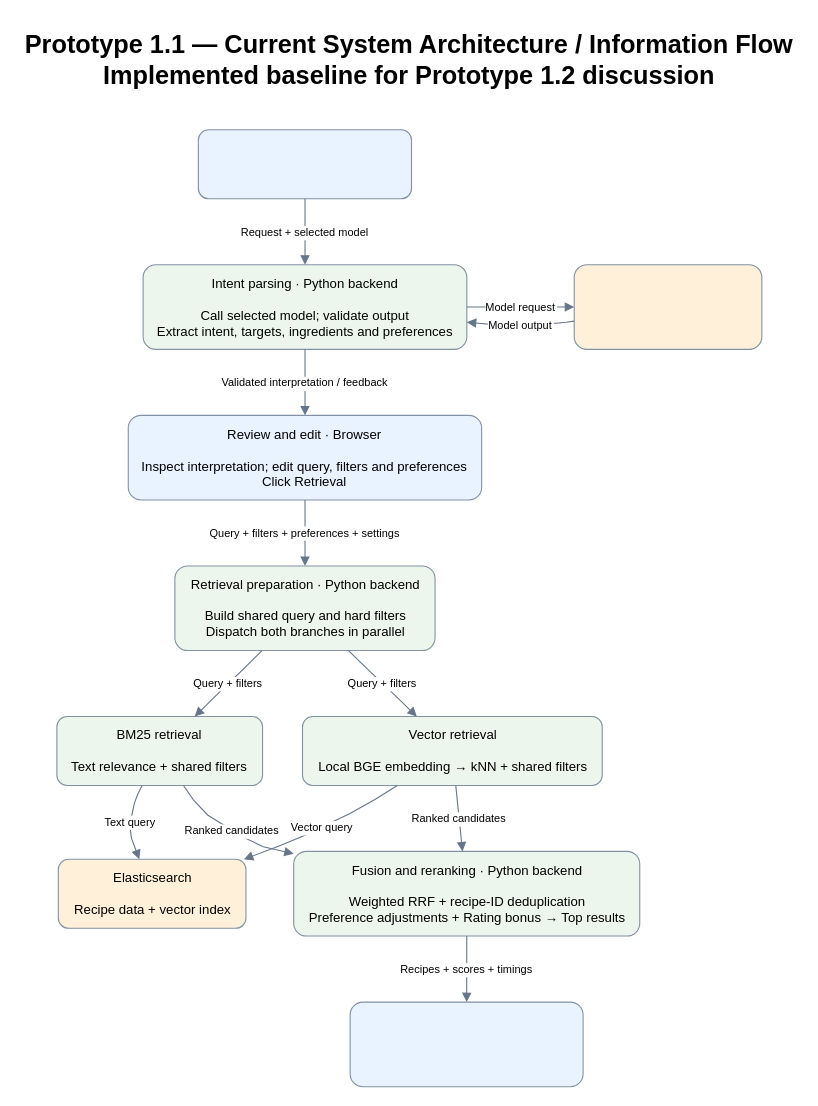
This 818x1106 diagram has some shape labels left out. Each missing label, with the box of its shape:
Model APIs OpenAI / DeepSeek: direct Jev: via AI Gateway: (573, 264, 762, 349)
Results · Browser Recipe cards and details Rank explanations + stage timings: (349, 1001, 583, 1087)
User interface · Browser Enter request → Analyze intent: (197, 129, 412, 199)
